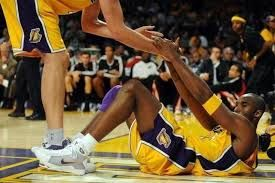10+: (1, 1, 275, 156)
down: (27, 35, 265, 177)
